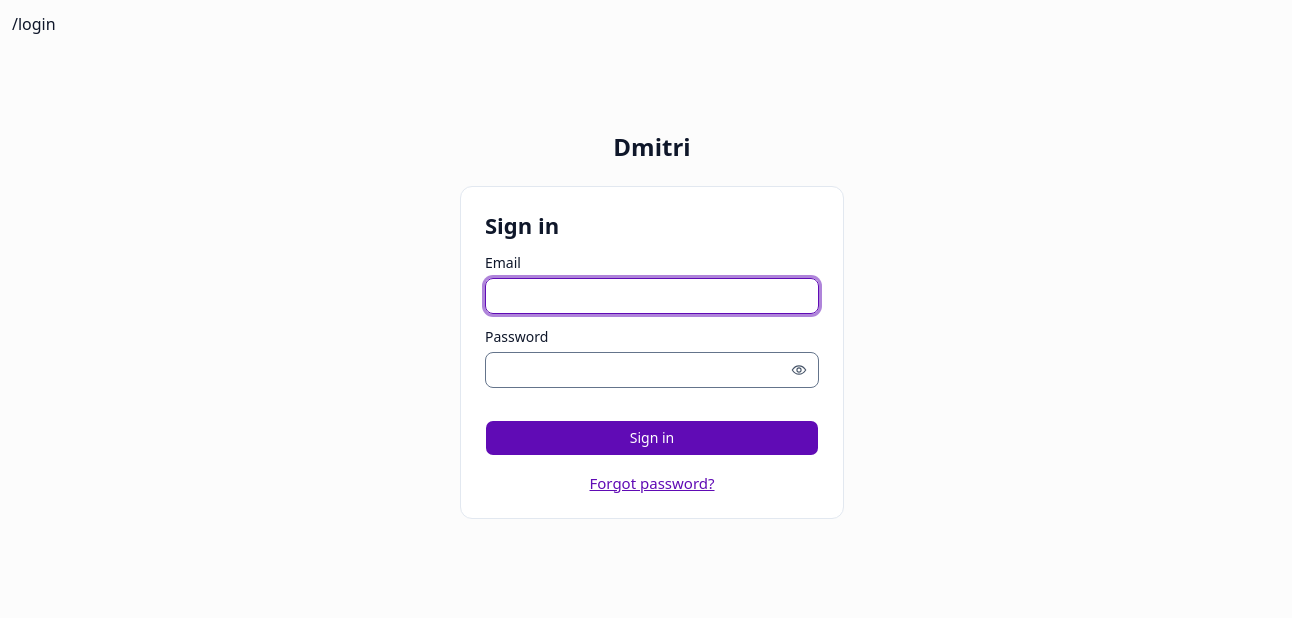
Test: App › lands on / after a successful sign-in from /login (AC 1)
In the field labelled "Email": (652, 296) left=485, top=278, right=819, bottom=314, type "ana@northwind.example"
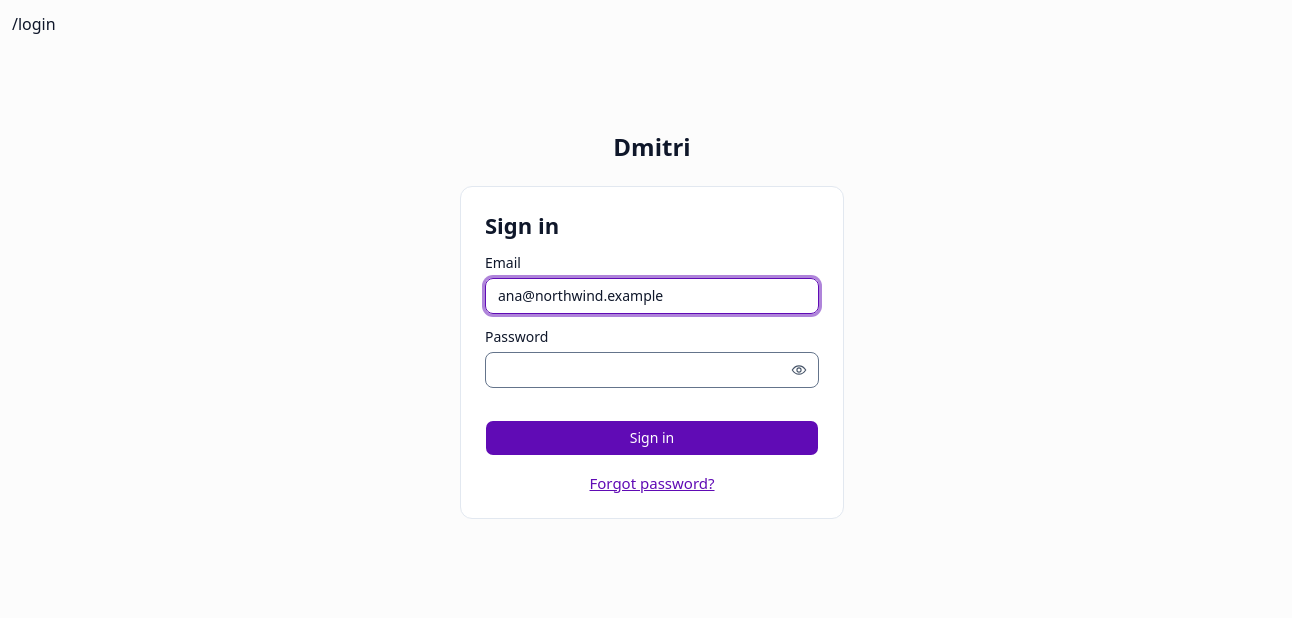
In the password field labelled "Password": (652, 370) left=485, top=352, right=819, bottom=388, type "correct horse battery staple"
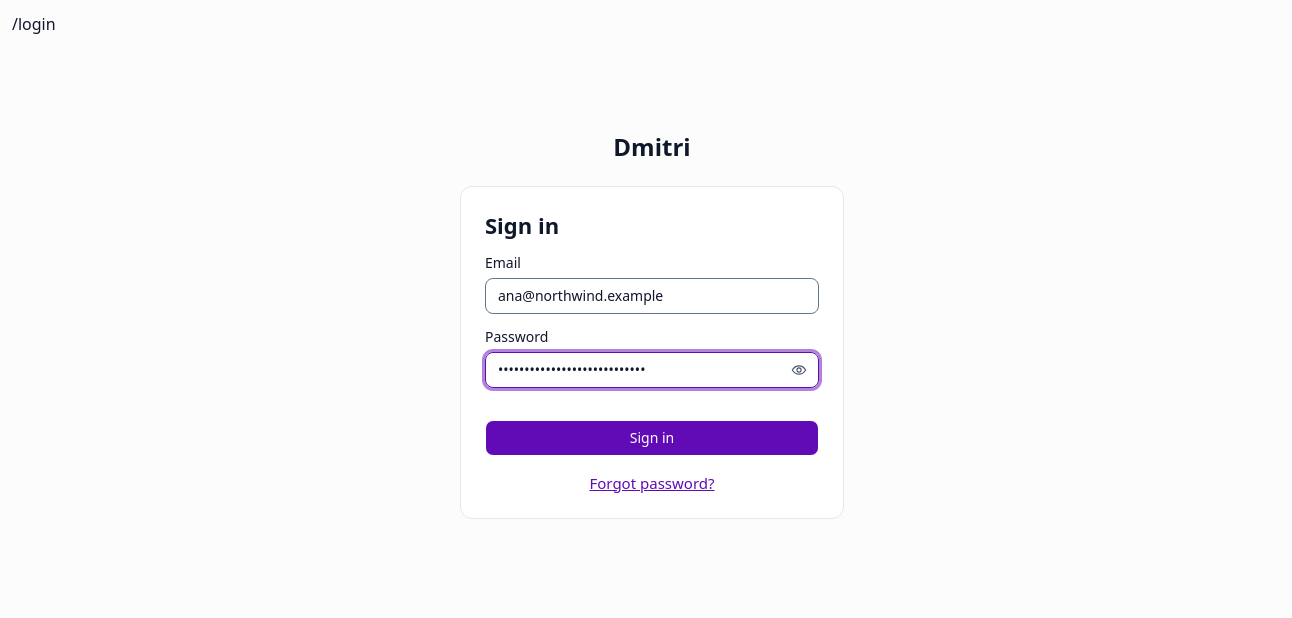
Click the button with test id "login-submit": click(652, 438) left=485, top=420, right=819, bottom=456
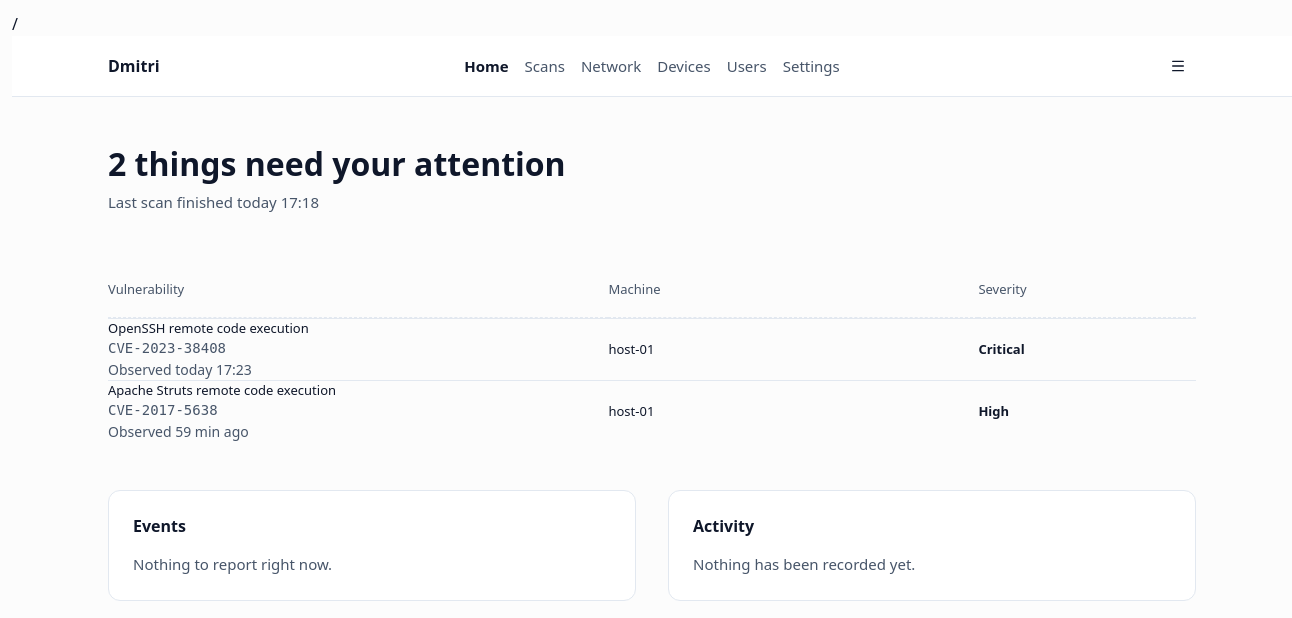
Check: the text with test id "location-probe" reads "/", box left=12, top=13, right=18, bottom=35
Check: the text "2 things need your attention" is shown, box left=108, top=145, right=566, bottom=183
Check: the form with test id "login-form" is gone
